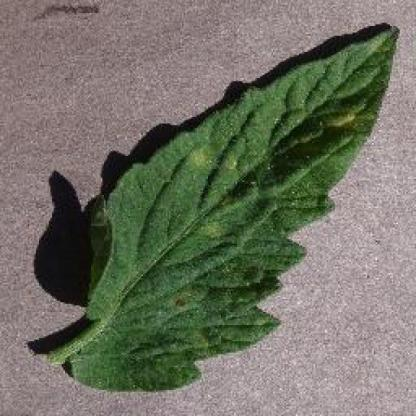Tomato_Leaf_Mold: (76, 25, 399, 391)
